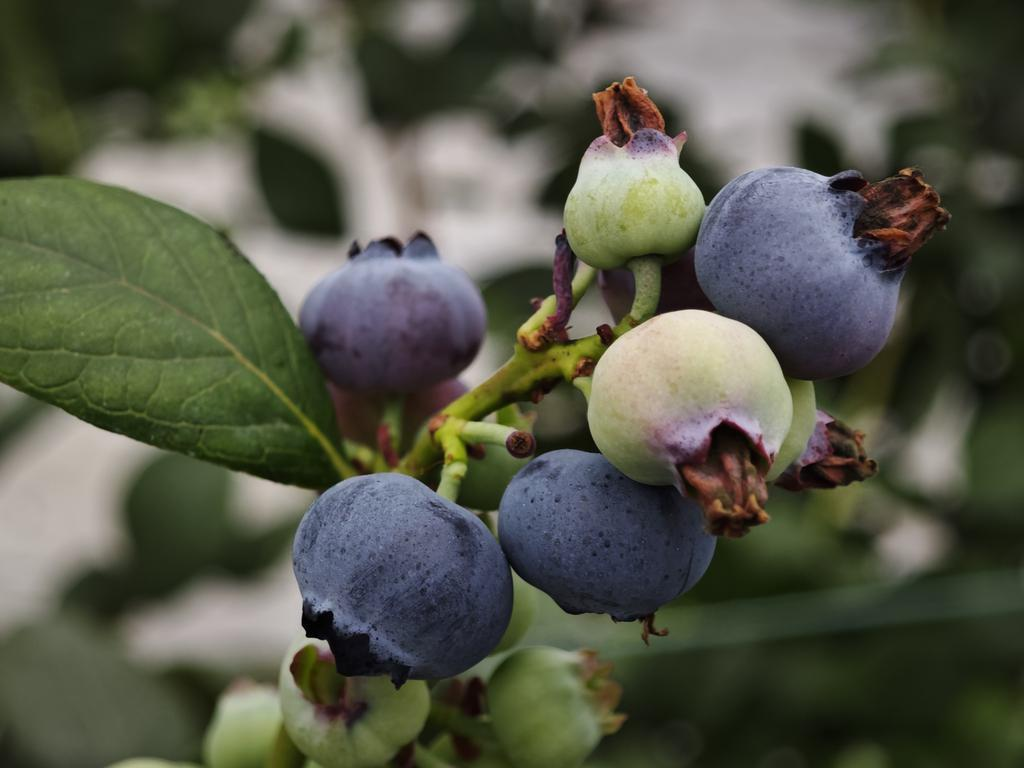RipeBlueBerry: (692, 160, 927, 382), (289, 469, 516, 691), (497, 449, 721, 627)
Semi-RipeBlueBerry: (582, 303, 797, 504)
